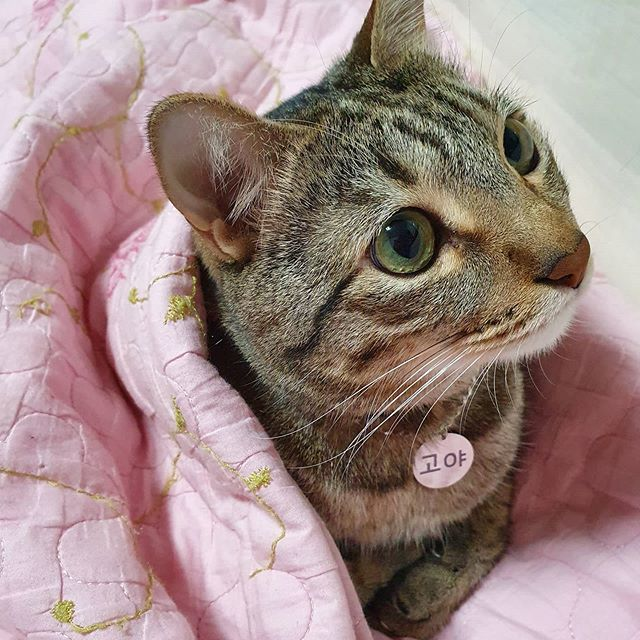cat: (138, 3, 599, 421)
